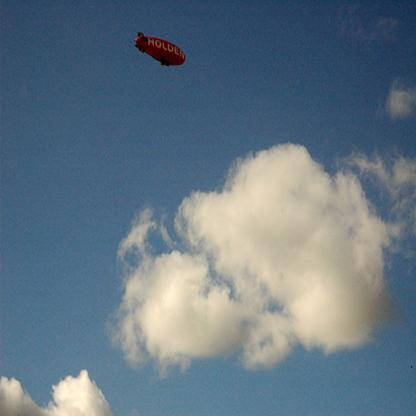Airship: (131, 28, 192, 78)
